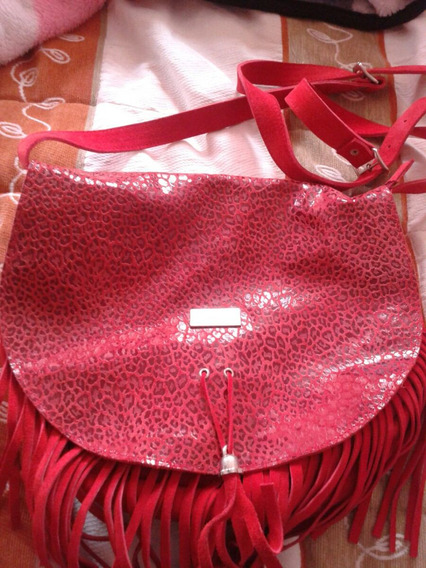cartera: (3, 60, 426, 568)
